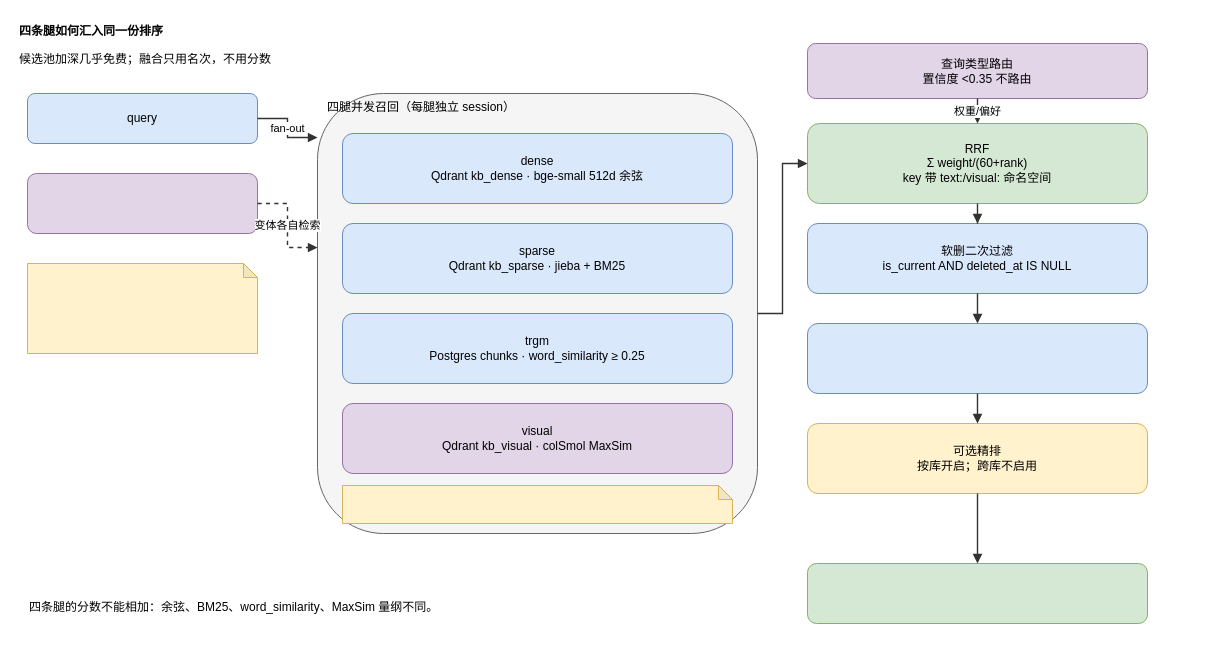
Some shapes in this 1214 by 650 pixel diagram are drawn without their labels. The centre of each missing label's shape, as x and y in pixels:
"mode 只控制文本三腿： semantic / exact / hybrid。 视觉腿由可用性决定。" goes at (x=142, y=308).
"top_k + 证据质量 ok / weak / none" goes at (x=977, y=593).
"可选：查询改写 原始 query 恒在第 0 位" goes at (x=142, y=203).
"每腿候选 min(100, max(top_k*3, 30))" goes at (x=537, y=504).
"路由偏好（软过滤） 过滤为空则退回" goes at (x=977, y=358).
